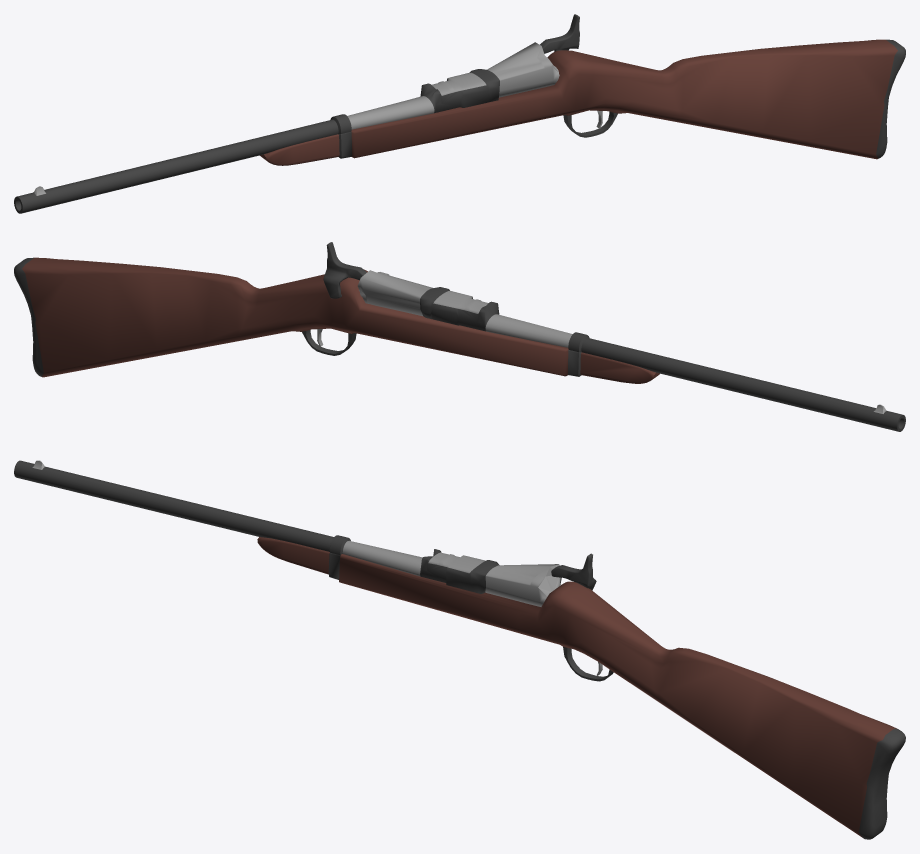
File: SpringfieldModel1870.fbx
3 renders of one model, top to bottom at view 1: azimuth 30°, elevation 25°; view 2: azimuth 150°, elevation 25°; view 3: azimuth 330°, elevation 25°, orthographic.
Parts seen in each view (by area): view 1: Line005, Cylinder001, Line003; view 2: Line005, Cylinder001, Line003; view 3: Line005, Cylinder001, Line003.
Boxes of the visible parts, x1,y1,x2,y2 form: Line005: [260, 39, 905, 165]; Cylinder001: [14, 42, 559, 213]; Line003: [540, 14, 579, 53]; Line005: [14, 257, 659, 383]; Cylinder001: [357, 270, 905, 431]; Line003: [323, 242, 366, 298]; Line005: [257, 537, 905, 839]; Cylinder001: [14, 460, 561, 606]; Line003: [551, 553, 596, 590].
Size of the model in its own units: 115 by 25.71 by 5.92.
